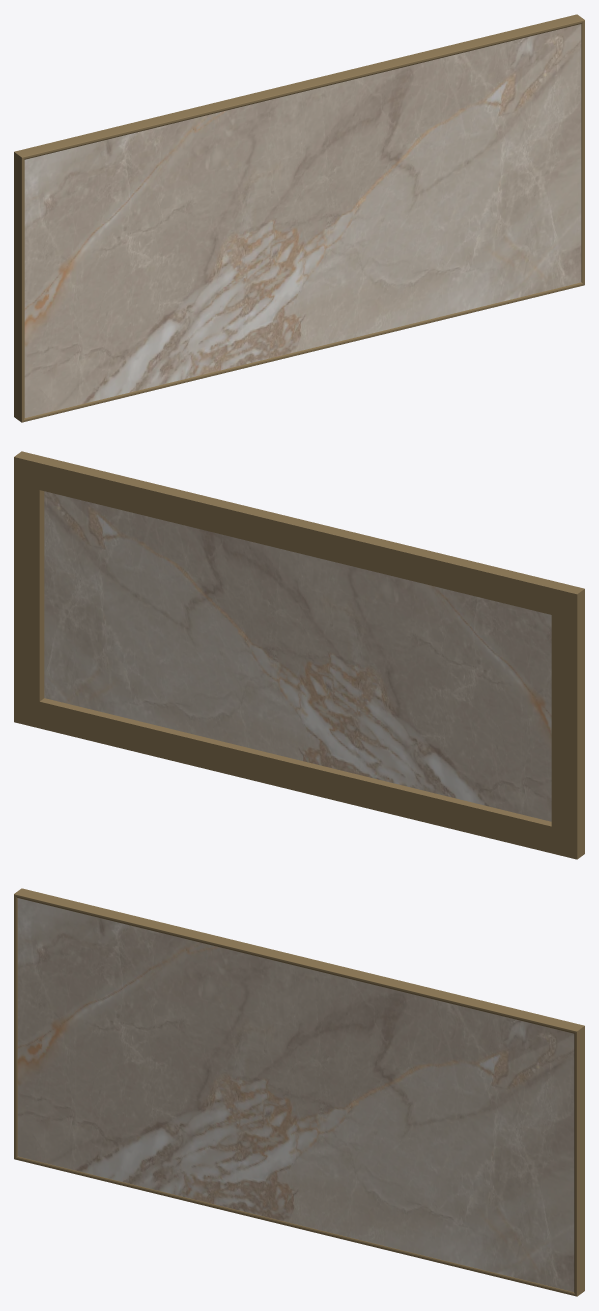
3 renders of one model, top to bottom at view 1: azimuth 30°, elevation 25°; view 2: azimuth 150°, elevation 25°; view 3: azimuth 330°, elevation 25°, orthographic.
Visible parts, largest first — view 1: Object_node, Extrusion, Extrusion_node_1, Extrusion_node_0, Extrusion_node; view 2: Object_node, Extrusion, Extrusion_node_0, Extrusion_node_1, Extrusion_node; view 3: Object_node, Extrusion, Extrusion_node, Extrusion_node_0, Extrusion_node_1.
Boxes of the visible parts, <box> form: Object_node: <box>24,24,581,417</box>; Extrusion: <box>14,14,584,159</box>; Extrusion_node_1: <box>14,152,24,422</box>; Extrusion_node_0: <box>22,282,584,422</box>; Extrusion_node: <box>581,20,584,284</box>; Object_node: <box>44,491,551,821</box>; Extrusion: <box>14,451,584,614</box>; Extrusion_node_0: <box>14,698,576,859</box>; Extrusion_node_1: <box>551,589,584,859</box>; Extrusion_node: <box>14,457,44,721</box>; Object_node: <box>17,898,574,1291</box>; Extrusion: <box>14,888,584,1033</box>; Extrusion_node: <box>574,1026,584,1296</box>; Extrusion_node_0: <box>14,1156,576,1296</box>; Extrusion_node_1: <box>14,894,17,1158</box>.
Bounding box in the file's own units: 1 × 0.45 × 0.0242.
2 materials, 1 textured.
